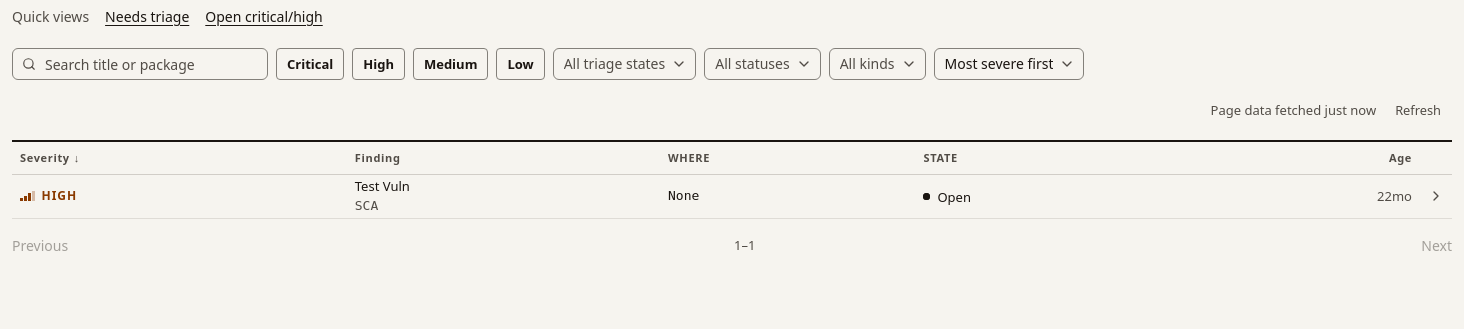
Test: FindingsDashboard › offers a sort control for narrow screens that covers age and last seen
Expected: the link "Test Vuln" is shown, [355,177,410,195]
Click the dropdown named "Sort findings" at (1009, 64), box [934,48,1084,80]
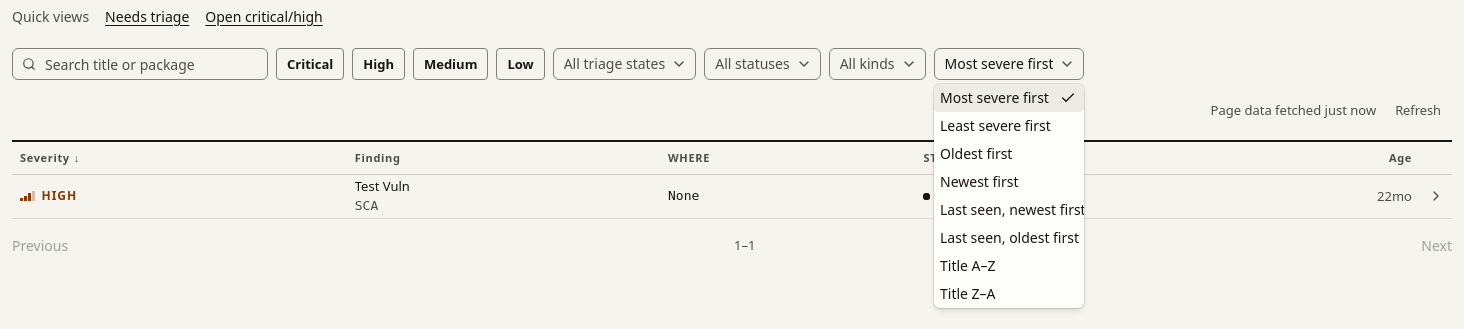
Click the option "Last seen, newest first" at (1009, 210), box [934,196,1084,224]
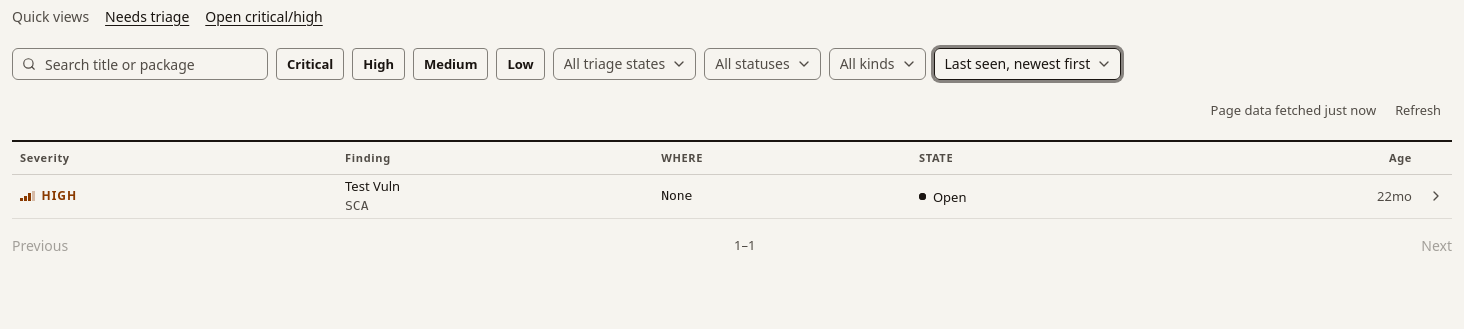
Click the dropdown named "Sort findings" at (1027, 64), box [934,48,1121,80]
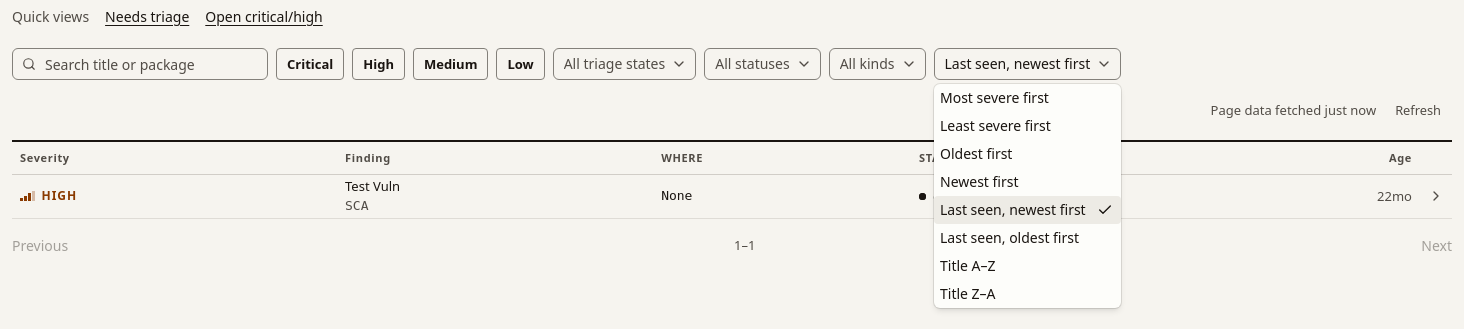
Click the option "Oldest first" at (976, 154), box [940,144,1012,163]
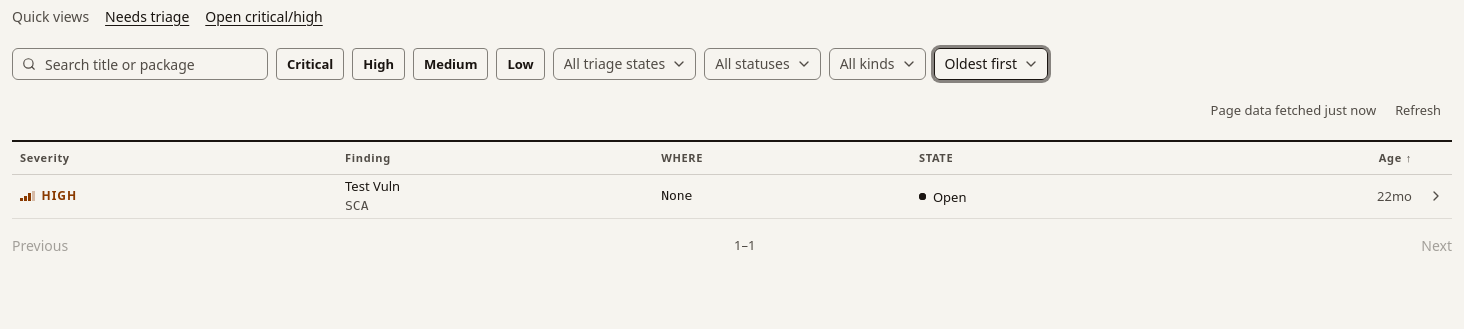
Expected: the dropdown named "Sort findings" reads "Oldest first", [934,48,1048,80]
